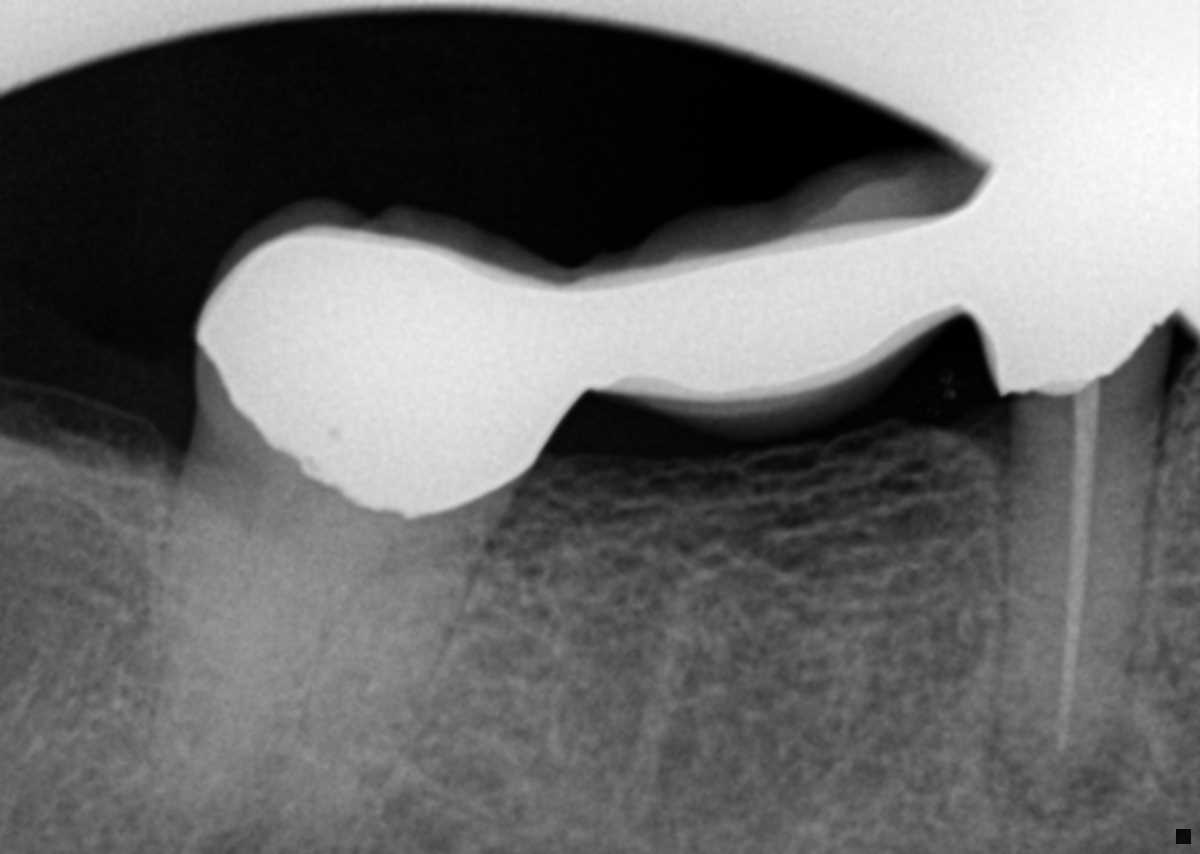Apical Lesion: (985, 719, 1161, 840)
Distal Root: (146, 480, 346, 826)
Main Root: (995, 451, 1160, 791)
Mesial Root: (263, 571, 469, 852)
Root Canal Filling: (1060, 382, 1100, 753)
